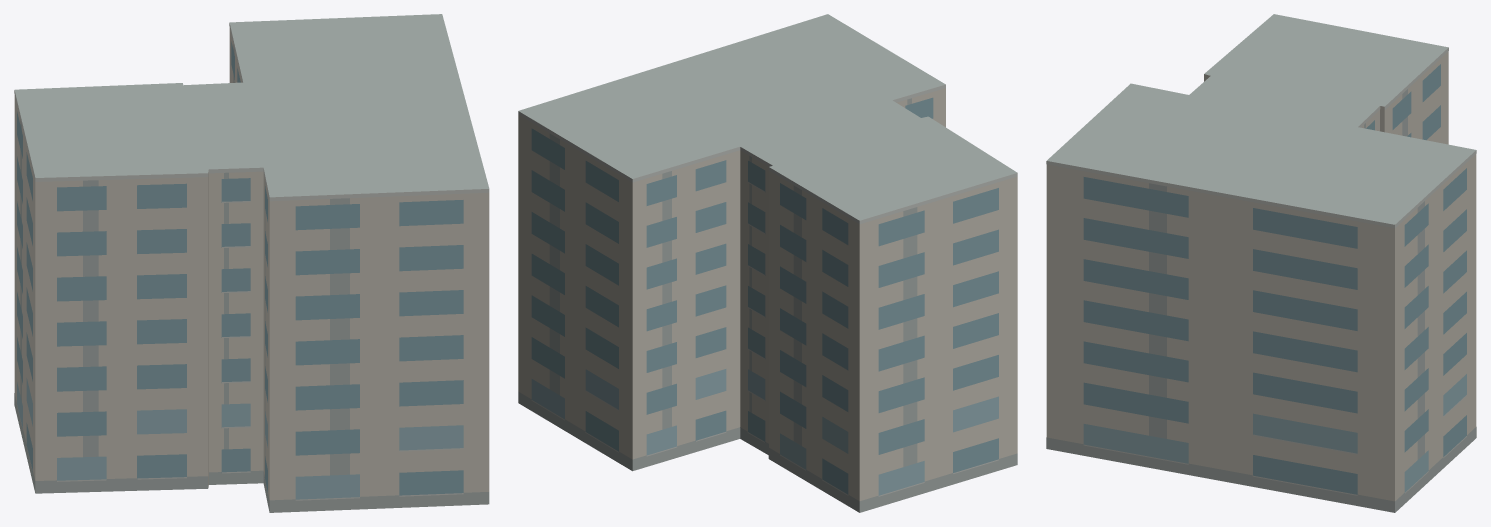
File: survey-upis-32553129.glb
3 renders of one model, left to right at view 1: azimuth 30°, elevation 25°; view 2: azimuth 150°, elevation 25°; view 3: azimuth 270°, elevation 25°, orthographic. The views are drawn at different scales.
Parts seen in each view (by area): view 1: survey-upis-32553129.tmp; view 2: survey-upis-32553129.tmp; view 3: survey-upis-32553129.tmp.
Boxes of the visible parts, bbox=[...] form: survey-upis-32553129.tmp: bbox=[14, 14, 489, 512]; survey-upis-32553129.tmp: bbox=[518, 14, 1017, 512]; survey-upis-32553129.tmp: bbox=[1046, 14, 1476, 512].
Size of the model in its own units: 30.93 by 19.7 by 26.66.
